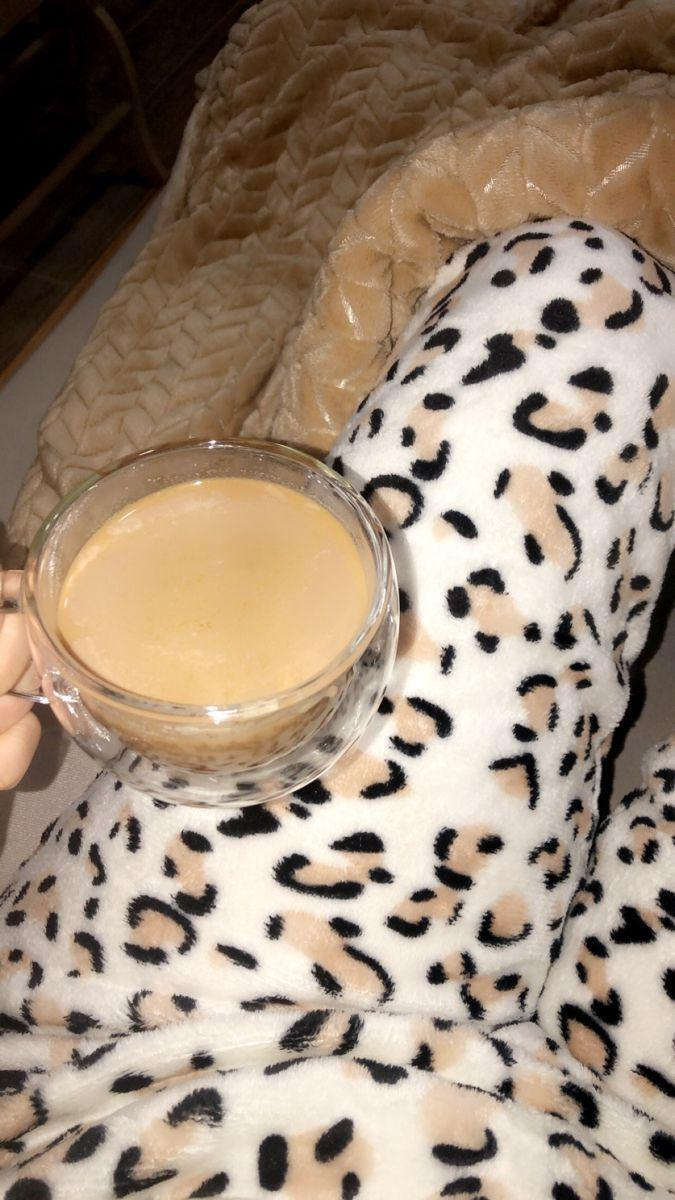glass-mug: (0, 436, 403, 811)
